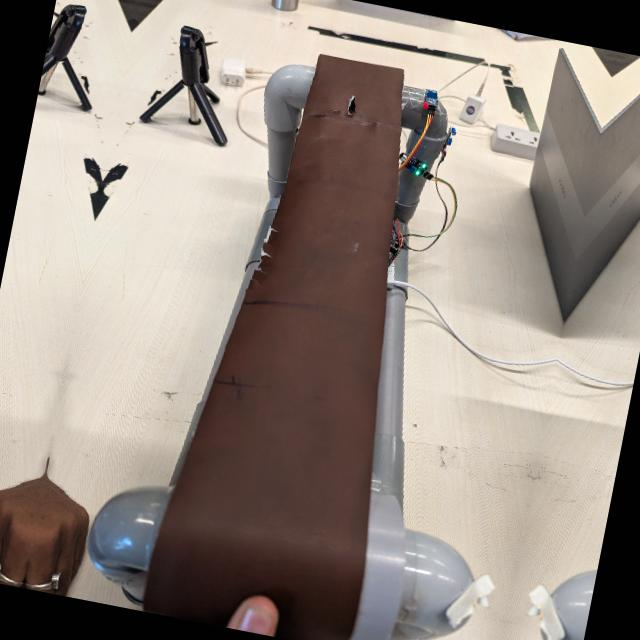edge_damage: (241, 214, 298, 308)
joint_damage: (335, 83, 370, 127)
